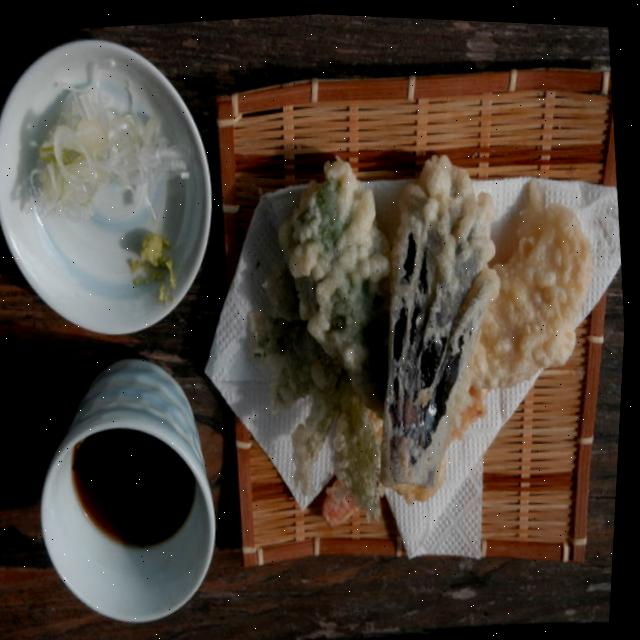蔬菜料理: (212, 113, 636, 533)
